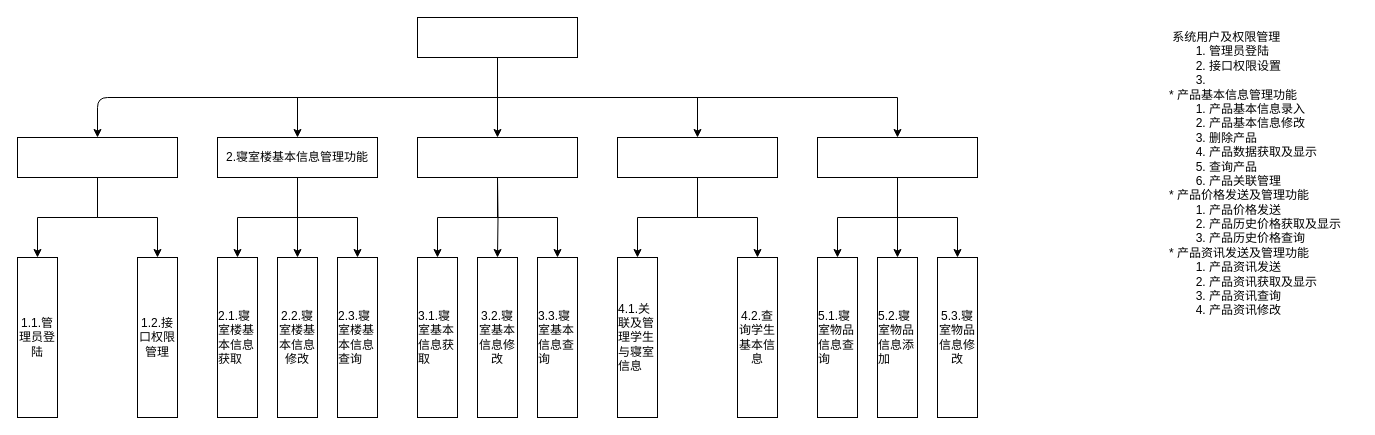
The diagram is 1375 pixels wide and 435 high, and some of its shapes have lost their labels. Here are the shapes that lost their labels. From the top down, the centre of each, then its label:
the point at 497,37: 寝室管理系统
the point at 97,157: 1. 系统用户及权限管理
the point at 497,157: 3.寝室基本信息管理功能
the point at 697,157: 4.学生基本信息 管理功能
the point at 897,157: 5.寝室物品 管理功能
